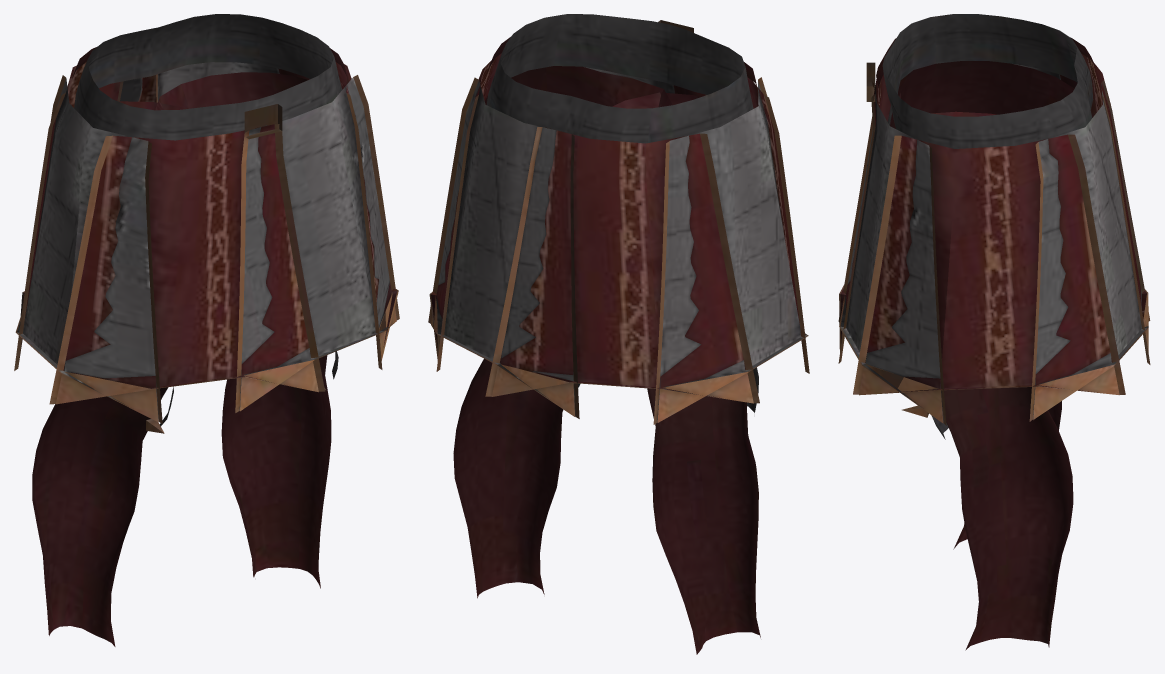
File: Calça_de_Placas_nivel75.glb
The picture shows the model from 3 angles, left to right: view 1: azimuth 30°, elevation 25°; view 2: azimuth 150°, elevation 25°; view 3: azimuth 270°, elevation 25°; orthographic projection. The views are drawn at different scales.
Visible parts, largest first — view 1: calca_de_placas_nivel75; view 2: calca_de_placas_nivel75; view 3: calca_de_placas_nivel75.
Boxes of the visible parts, bbox=[...] form: calca_de_placas_nivel75: bbox=[14, 14, 399, 646]; calca_de_placas_nivel75: bbox=[428, 14, 809, 654]; calca_de_placas_nivel75: bbox=[838, 14, 1150, 650].
Size of the model in its own units: 0.546 by 0.8351 by 0.4342.
1 material, 1 textured.
